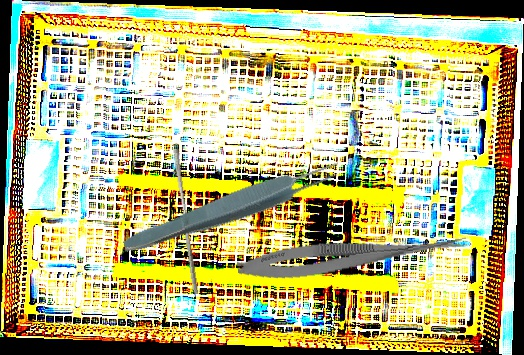Micro Scissor: (235, 222, 469, 287)
Pusher: (167, 148, 205, 295)
Tissue Forceps: (119, 153, 346, 262)
